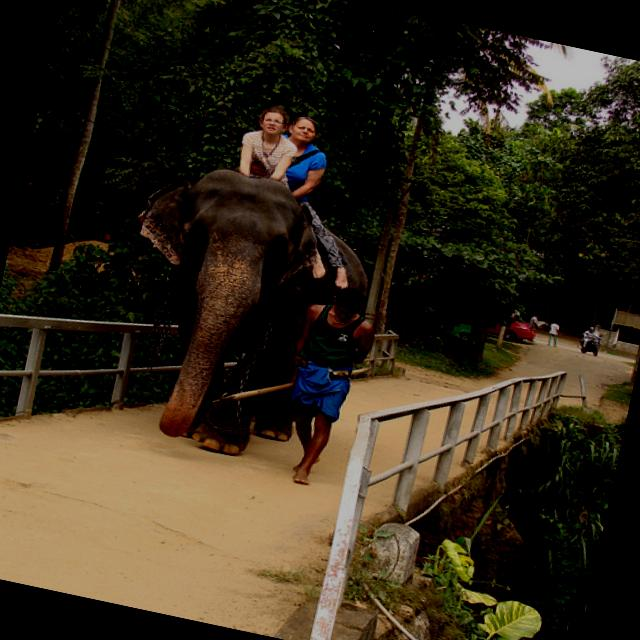Vehicle: (484, 312, 540, 346), (576, 334, 600, 356)
